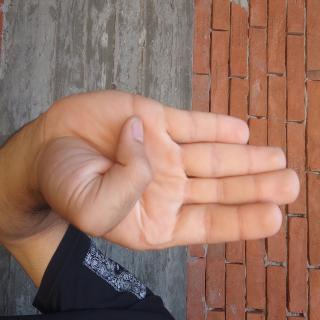KAAF: (60, 19, 191, 320)
